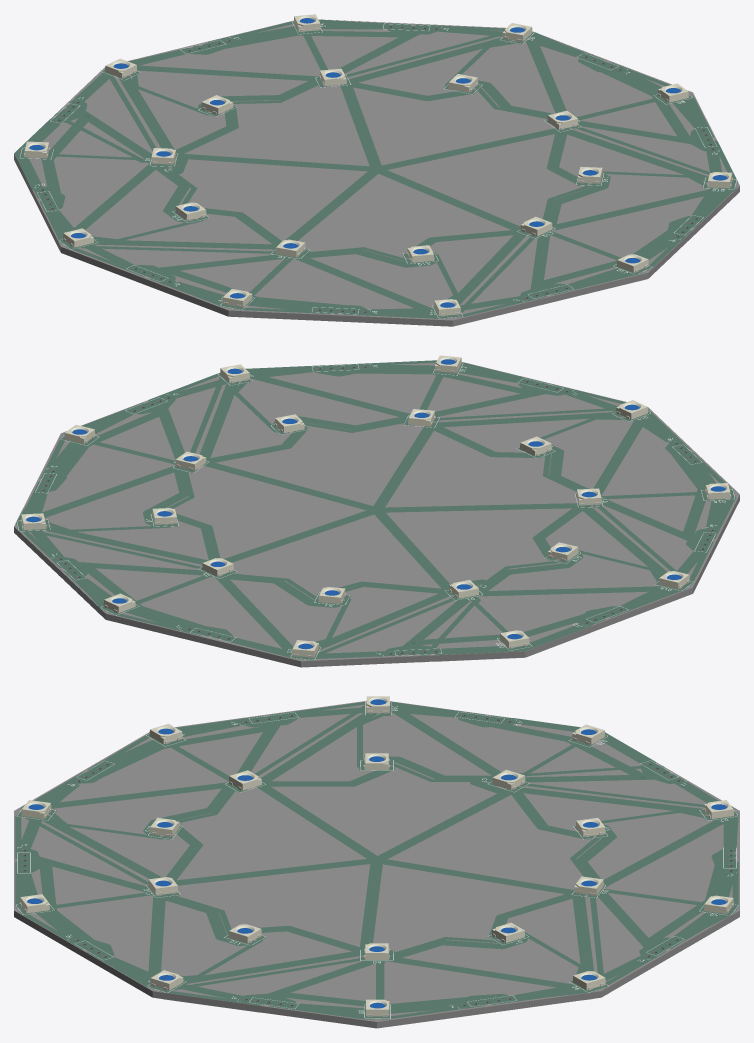
3 views of the same model, one above another, from view 1: azimuth 30°, elevation 25°; view 2: azimuth 150°, elevation 25°; view 3: azimuth 270°, elevation 25° (orthographic). The views are drawn at different scales.
Parts seen in each view (by area): view 1: =>[0:1:1:5], =>[0:1:1:4], =>[0:1:1:3]; view 2: =>[0:1:1:5], =>[0:1:1:4], =>[0:1:1:3]; view 3: =>[0:1:1:5], =>[0:1:1:4], =>[0:1:1:3].
Boxes of the visible parts, x1,y1,x2,y2 form: =>[0:1:1:5]: (14, 19, 739, 326); =>[0:1:1:4]: (14, 19, 737, 318); =>[0:1:1:3]: (19, 21, 736, 318); =>[0:1:1:5]: (14, 361, 739, 667); =>[0:1:1:4]: (16, 360, 735, 662); =>[0:1:1:3]: (16, 362, 734, 659); =>[0:1:1:5]: (14, 701, 739, 1028); =>[0:1:1:4]: (14, 701, 738, 1019); =>[0:1:1:3]: (15, 701, 738, 1018).
Bounding box in the file's own units: 0.1617 × 0.00337 × 0.1538.
